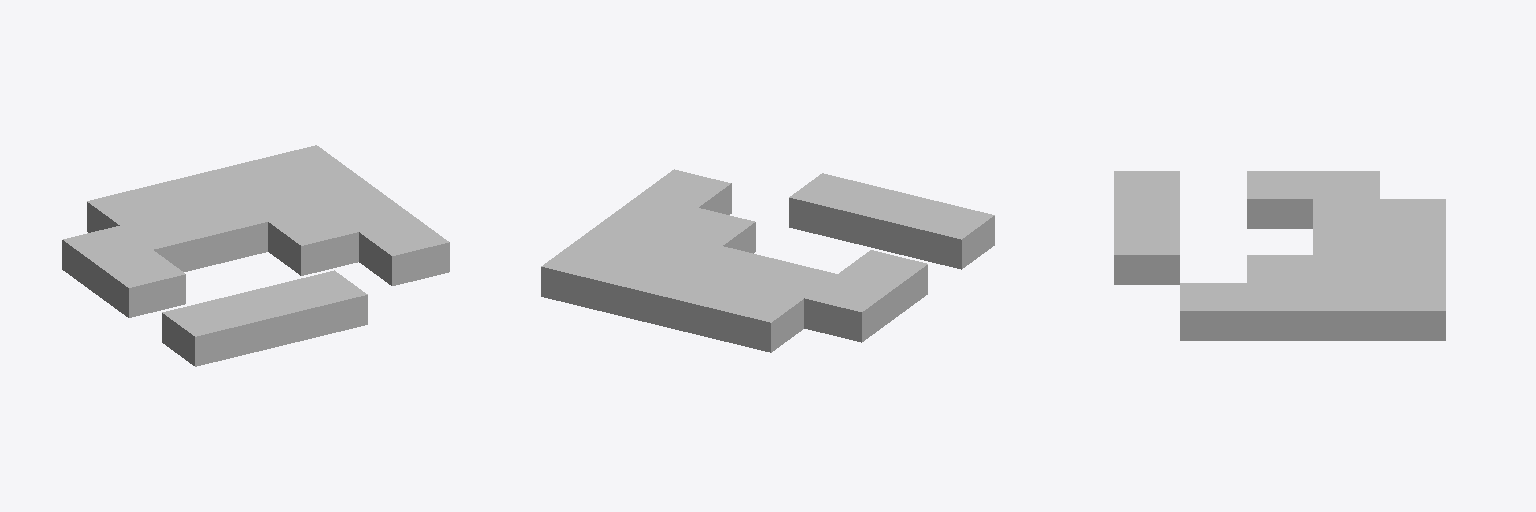
File: 71s_block.obj
3 views of the same model, side by side, from view 1: azimuth 30°, elevation 25°; view 2: azimuth 150°, elevation 25°; view 3: azimuth 270°, elevation 25° (orthographic).
Parts seen in each view (by area): view 1: block.3.2_block.4941, block.0.0_block.4931, block.4.1_block.4944, block.0.2_block.4932, block.2.0_block.4938, block.1.0_block.4935, block.2.3_block.4939, block.1.3_block.4936, block.0.3_block.4933, block.1.4_block.4937, block.4.3_block.4946, block.2.4_block.4940 (+4 smaller); view 2: block.0.3_block.4933, block.0.0_block.4931, block.1.4_block.4937, block.2.0_block.4938, block.4.4_block.4947, block.2.4_block.4940, block.1.0_block.4935, block.3.4_block.4943, block.0.2_block.4932, block.4.1_block.4944, block.3.2_block.4941, block.1.3_block.4936 (+4 smaller); view 3: block.4.1_block.4944, block.4.3_block.4946, block.0.2_block.4932, block.2.0_block.4938, block.4.2_block.4945, block.4.4_block.4947, block.0.3_block.4933, block.1.3_block.4936, block.2.3_block.4939, block.3.3_block.4942, block.0.0_block.4931, block.1.0_block.4935 (+4 smaller).
Part boxes in pixels (bbox=[...]): block.3.2_block.4941: bbox=[268, 208, 358, 275]; block.0.0_block.4931: bbox=[162, 298, 252, 366]; block.4.1_block.4944: bbox=[359, 218, 449, 285]; block.0.2_block.4932: bbox=[96, 250, 185, 317]; block.2.0_block.4938: bbox=[277, 270, 367, 338]; block.1.0_block.4935: bbox=[220, 285, 309, 352]; block.2.3_block.4939: bbox=[177, 198, 267, 265]; block.1.3_block.4936: bbox=[120, 212, 210, 271]; block.0.3_block.4933: bbox=[62, 226, 152, 293]; block.1.4_block.4937: bbox=[87, 187, 176, 232]; block.4.3_block.4946: bbox=[293, 169, 382, 207]; block.2.4_block.4940: bbox=[145, 173, 234, 210]; block.0.3_block.4933: bbox=[804, 274, 894, 342]; block.0.0_block.4931: bbox=[904, 201, 994, 269]; block.1.4_block.4937: bbox=[714, 285, 803, 352]; block.2.0_block.4938: bbox=[789, 173, 878, 241]; block.4.4_block.4947: bbox=[541, 242, 631, 310]; block.2.4_block.4940: bbox=[656, 270, 746, 338]; block.1.0_block.4935: bbox=[847, 187, 936, 254]; block.3.4_block.4943: bbox=[599, 257, 688, 324]; block.0.2_block.4932: bbox=[839, 250, 927, 317]; block.4.1_block.4944: bbox=[641, 169, 731, 214]; block.3.2_block.4941: bbox=[666, 208, 755, 253]; block.1.3_block.4936: bbox=[747, 260, 836, 297]; block.4.1_block.4944: bbox=[1180, 283, 1246, 340]; block.4.3_block.4946: bbox=[1313, 283, 1379, 340]; block.0.2_block.4932: bbox=[1247, 171, 1312, 228]; block.2.0_block.4938: bbox=[1114, 227, 1179, 284]; block.4.2_block.4945: bbox=[1247, 283, 1312, 340]; block.4.4_block.4947: bbox=[1380, 283, 1445, 340]; block.0.3_block.4933: bbox=[1313, 171, 1379, 198]; block.1.3_block.4936: bbox=[1313, 199, 1379, 226]; block.2.3_block.4939: bbox=[1313, 227, 1379, 254]; block.3.3_block.4942: bbox=[1313, 255, 1379, 282]; block.0.0_block.4931: bbox=[1114, 171, 1179, 198]; block.1.0_block.4935: bbox=[1114, 199, 1179, 226].
Size of the model in its own units: 10 by 1 by 10.